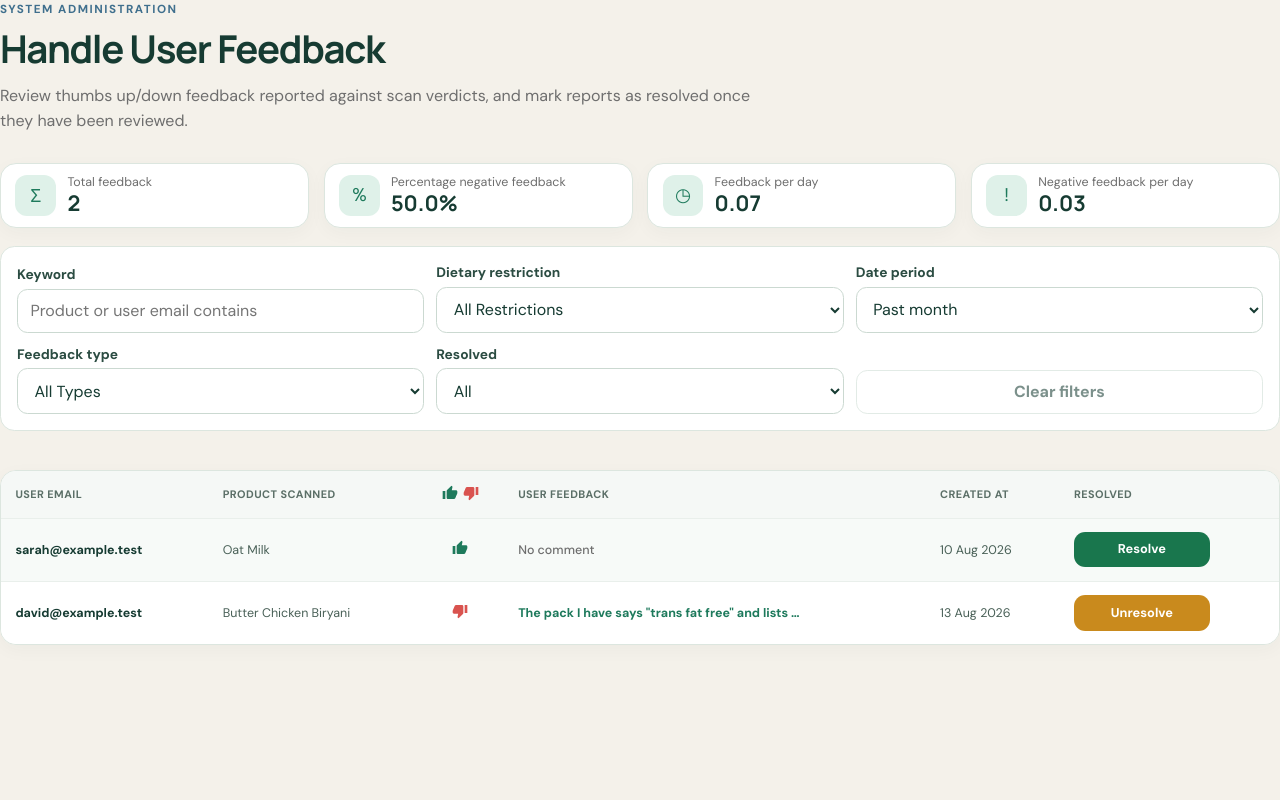
Test case: AdminScanFeedbackPage UC20 admin review › opens a modal with the full comment when the preview is clicked
The width and height of the screenshot is (1280, 800).
Click the button "trans fat free".
click(662, 613)  # box [518,605,806,621]
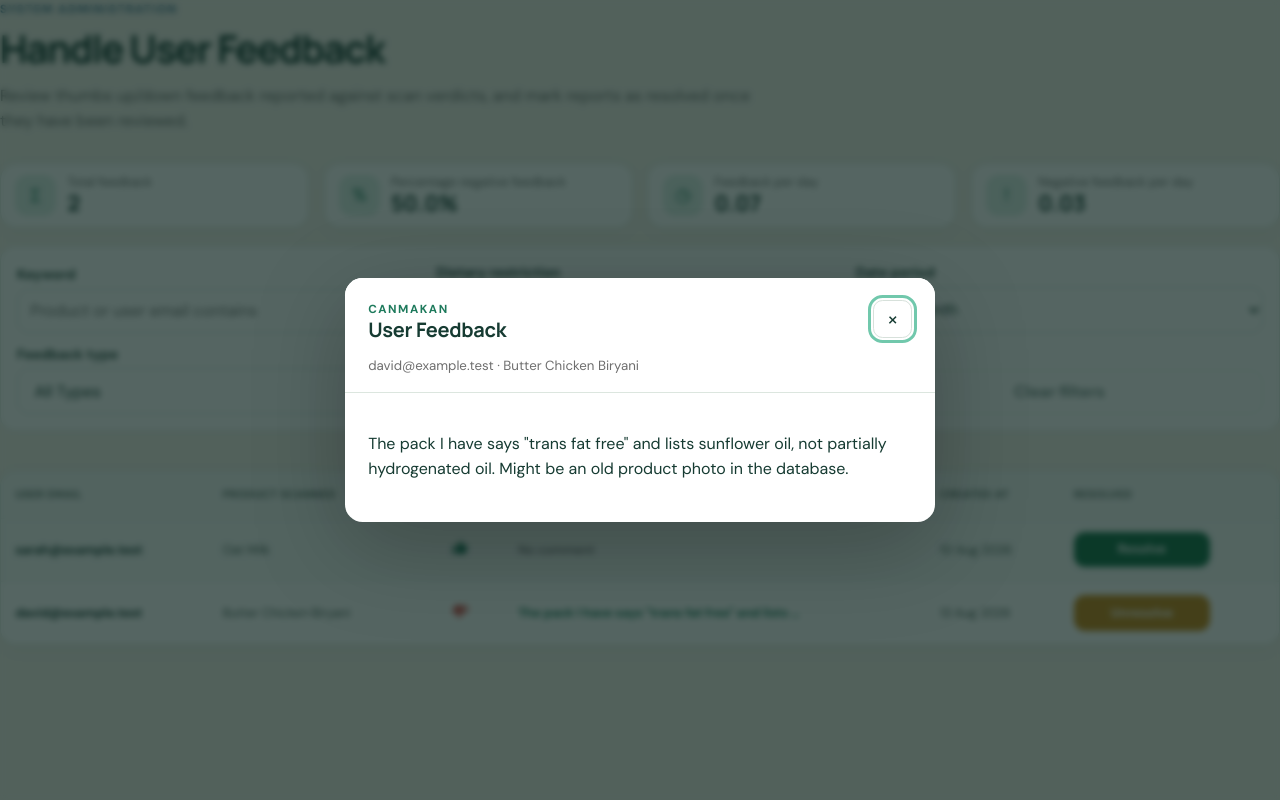
Check: the text "The pack I have says \"trans fat free\" and lists sunflower oil, not partially hydrogenated oil. Might be an old product p" is shown, box [368,433,887,479]
